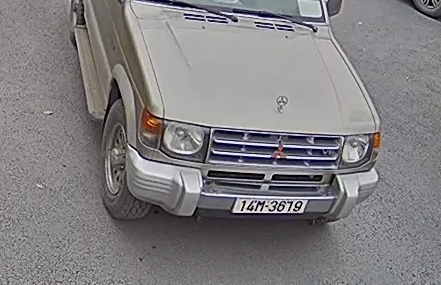vehicle plate: (231, 192, 309, 216)
